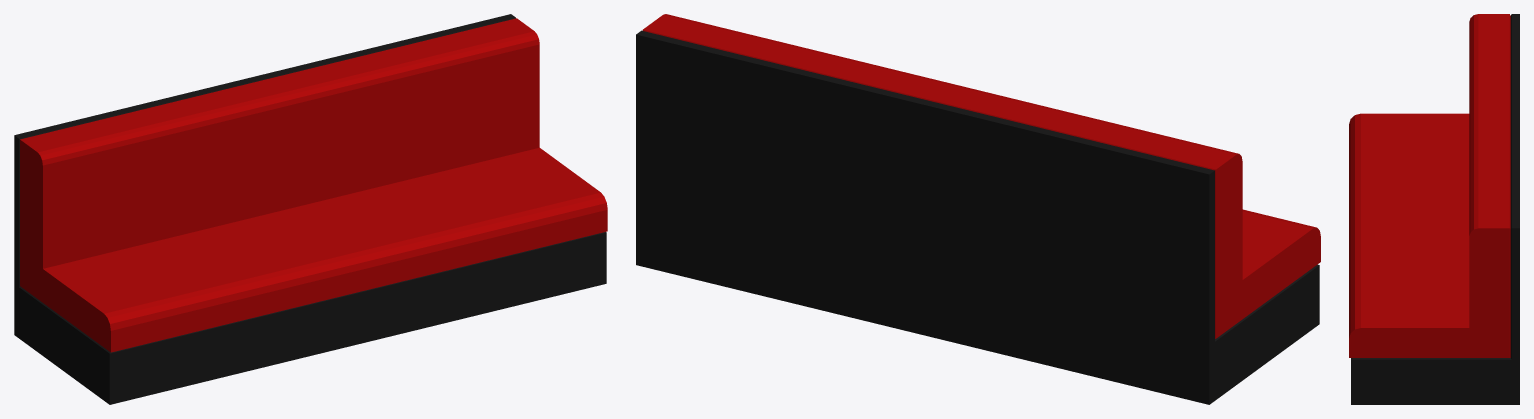
Rendered from sofa1X3.fbx.
3 views of the same model, side by side, from view 1: azimuth 30°, elevation 25°; view 2: azimuth 150°, elevation 25°; view 3: azimuth 270°, elevation 25° (orthographic). The views are drawn at different scales.
Visible parts, largest first — view 1: sofa1X3; view 2: sofa1X3; view 3: sofa1X3.
Boxes of the visible parts, <box> form: sofa1X3: <box>14,14,607,404</box>; sofa1X3: <box>636,14,1320,404</box>; sofa1X3: <box>1349,14,1519,404</box>.
Size of the model in its own units: 3000 by 1152 by 1011.
